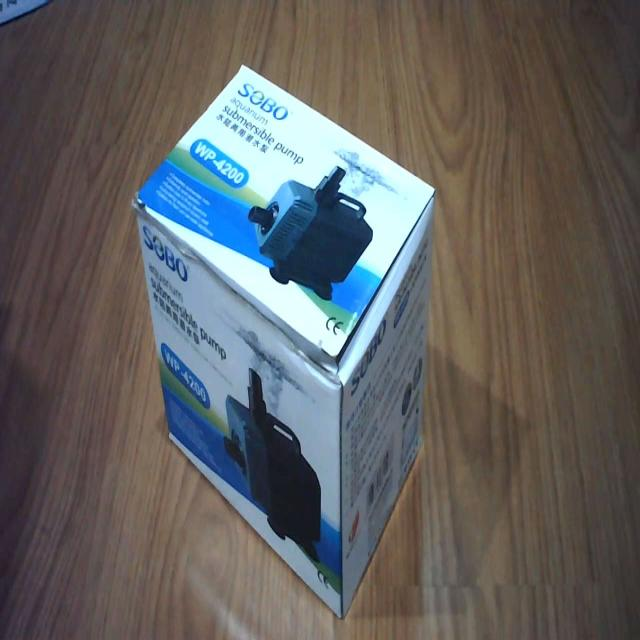SOBO_WP_4200: (128, 55, 439, 630)
